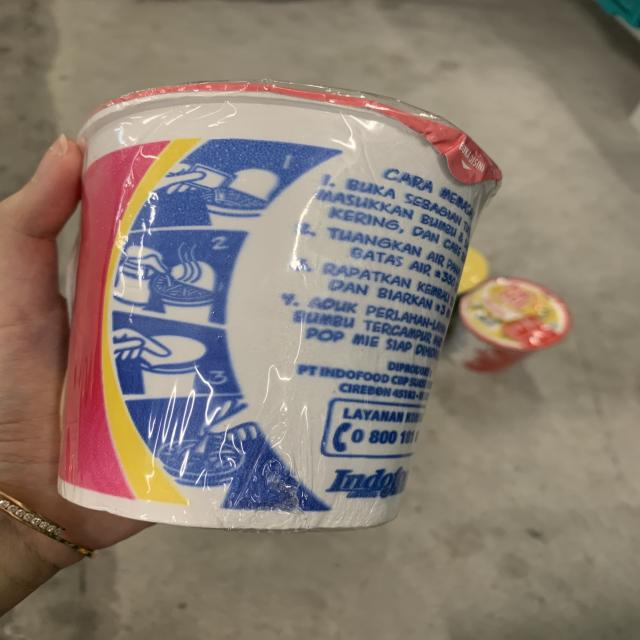object_name: (87, 96, 457, 532)
